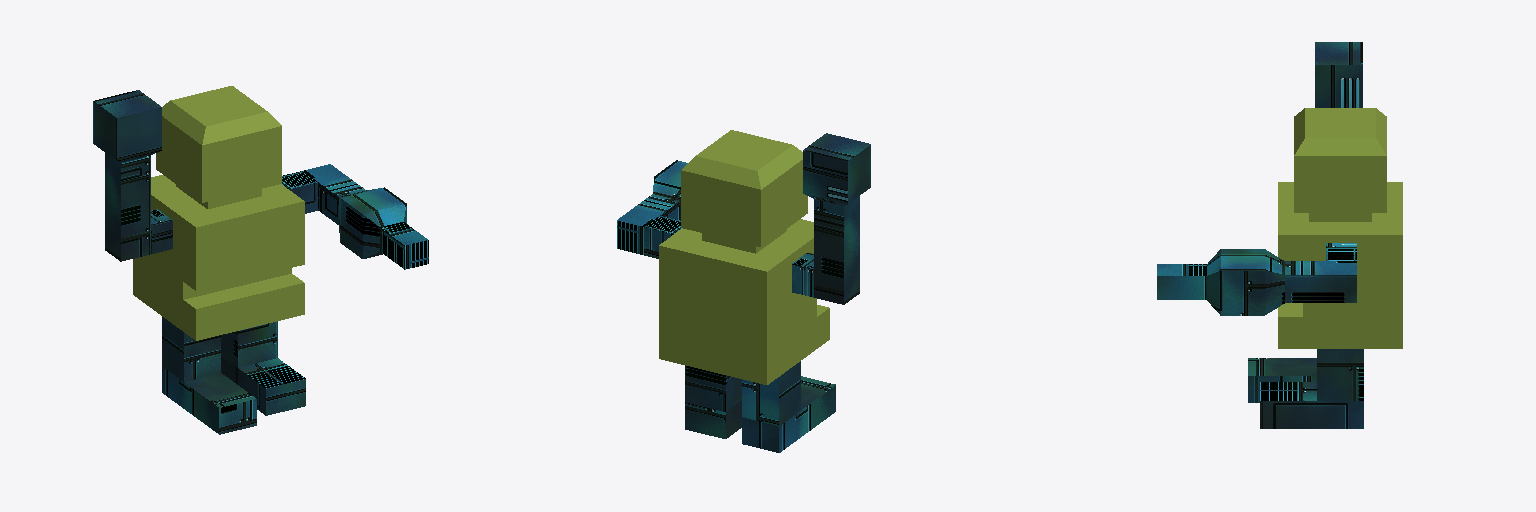
The picture shows the model from 3 angles: view 1: azimuth 30°, elevation 25°; view 2: azimuth 150°, elevation 25°; view 3: azimuth 270°, elevation 25°; orthographic projection.
Visible parts, largest first — view 1: CubeRobo_Cube; view 2: CubeRobo_Cube; view 3: CubeRobo_Cube.
Boxes of the visible parts, x1=… form: CubeRobo_Cube: x1=93, y1=86, x2=428, y2=434; CubeRobo_Cube: x1=617, y1=130, x2=870, y2=452; CubeRobo_Cube: x1=1157, y1=42, x2=1402, y2=428.
Bounding box in the file's own units: 1.85 × 2.25 × 1.63.
2 materials, 1 textured.